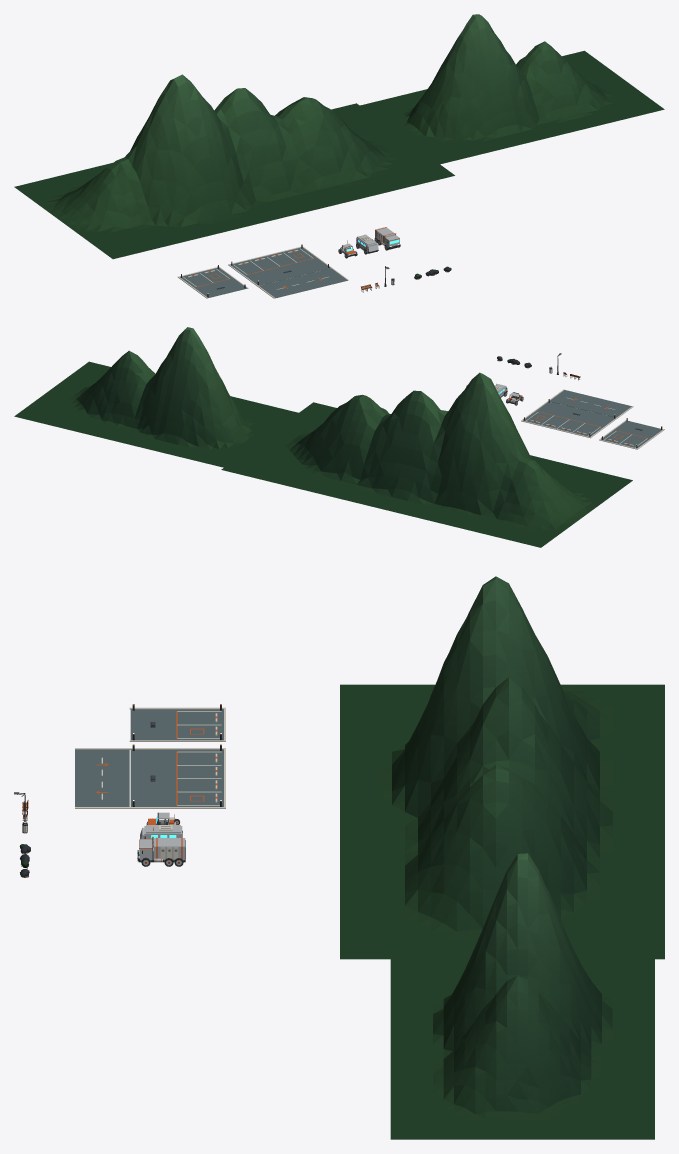
Rendered from elementos_entorno.glb.
3 views of the same model, one above another, from view 1: azimuth 30°, elevation 25°; view 2: azimuth 150°, elevation 25°; view 3: azimuth 270°, elevation 25° (orthographic). The views are drawn at different scales.
Visible parts, largest first — view 1: Env_Montana_Cordillera_Grande, Env_Montana_Pico_Grande, Env_Parking_Bloque_4Cajones, Env_Parking_Bloque_Acceso_Vial, Env_Parking_Bloque_2Cajones, Vehiculo_Camion_Carga; view 2: Env_Montana_Cordillera_Grande, Env_Montana_Pico_Grande, Env_Parking_Bloque_4Cajones, Env_Parking_Bloque_Acceso_Vial, Env_Parking_Bloque_2Cajones; view 3: Env_Montana_Cordillera_Grande, Env_Montana_Pico_Grande, Env_Parking_Bloque_4Cajones, Env_Parking_Bloque_2Cajones, Env_Parking_Bloque_Acceso_Vial, Vehiculo_Camion_Carga.
Part boxes in pixels (box(x1,y1,x2,y2)): Env_Montana_Cordillera_Grande: box(14, 74, 454, 259); Env_Montana_Pico_Grande: box(335, 14, 664, 171); Env_Parking_Bloque_4Cajones: box(228, 244, 331, 285); Env_Parking_Bloque_Acceso_Vial: box(257, 267, 348, 298); Env_Parking_Bloque_2Cajones: box(178, 264, 248, 298); Vehiculo_Camion_Carga: box(374, 227, 400, 250); Env_Montana_Cordillera_Grande: box(221, 372, 632, 547); Env_Montana_Pico_Grande: box(14, 327, 321, 474); Env_Parking_Bloque_4Cajones: box(521, 398, 617, 438); Env_Parking_Bloque_Acceso_Vial: box(549, 389, 633, 417); Env_Parking_Bloque_2Cajones: box(599, 417, 664, 449); Env_Montana_Cordillera_Grande: box(340, 576, 664, 959); Env_Montana_Pico_Grande: box(390, 853, 654, 1139); Env_Parking_Bloque_4Cajones: box(129, 743, 225, 808); Env_Parking_Bloque_2Cajones: box(129, 703, 225, 741); Env_Parking_Bloque_Acceso_Vial: box(75, 748, 129, 808); Vehiculo_Camion_Carga: box(137, 836, 185, 866).
Size of the model in its own units: 106 by 21.73 by 64.09.
Materials: 12 (1 with a texture image).
